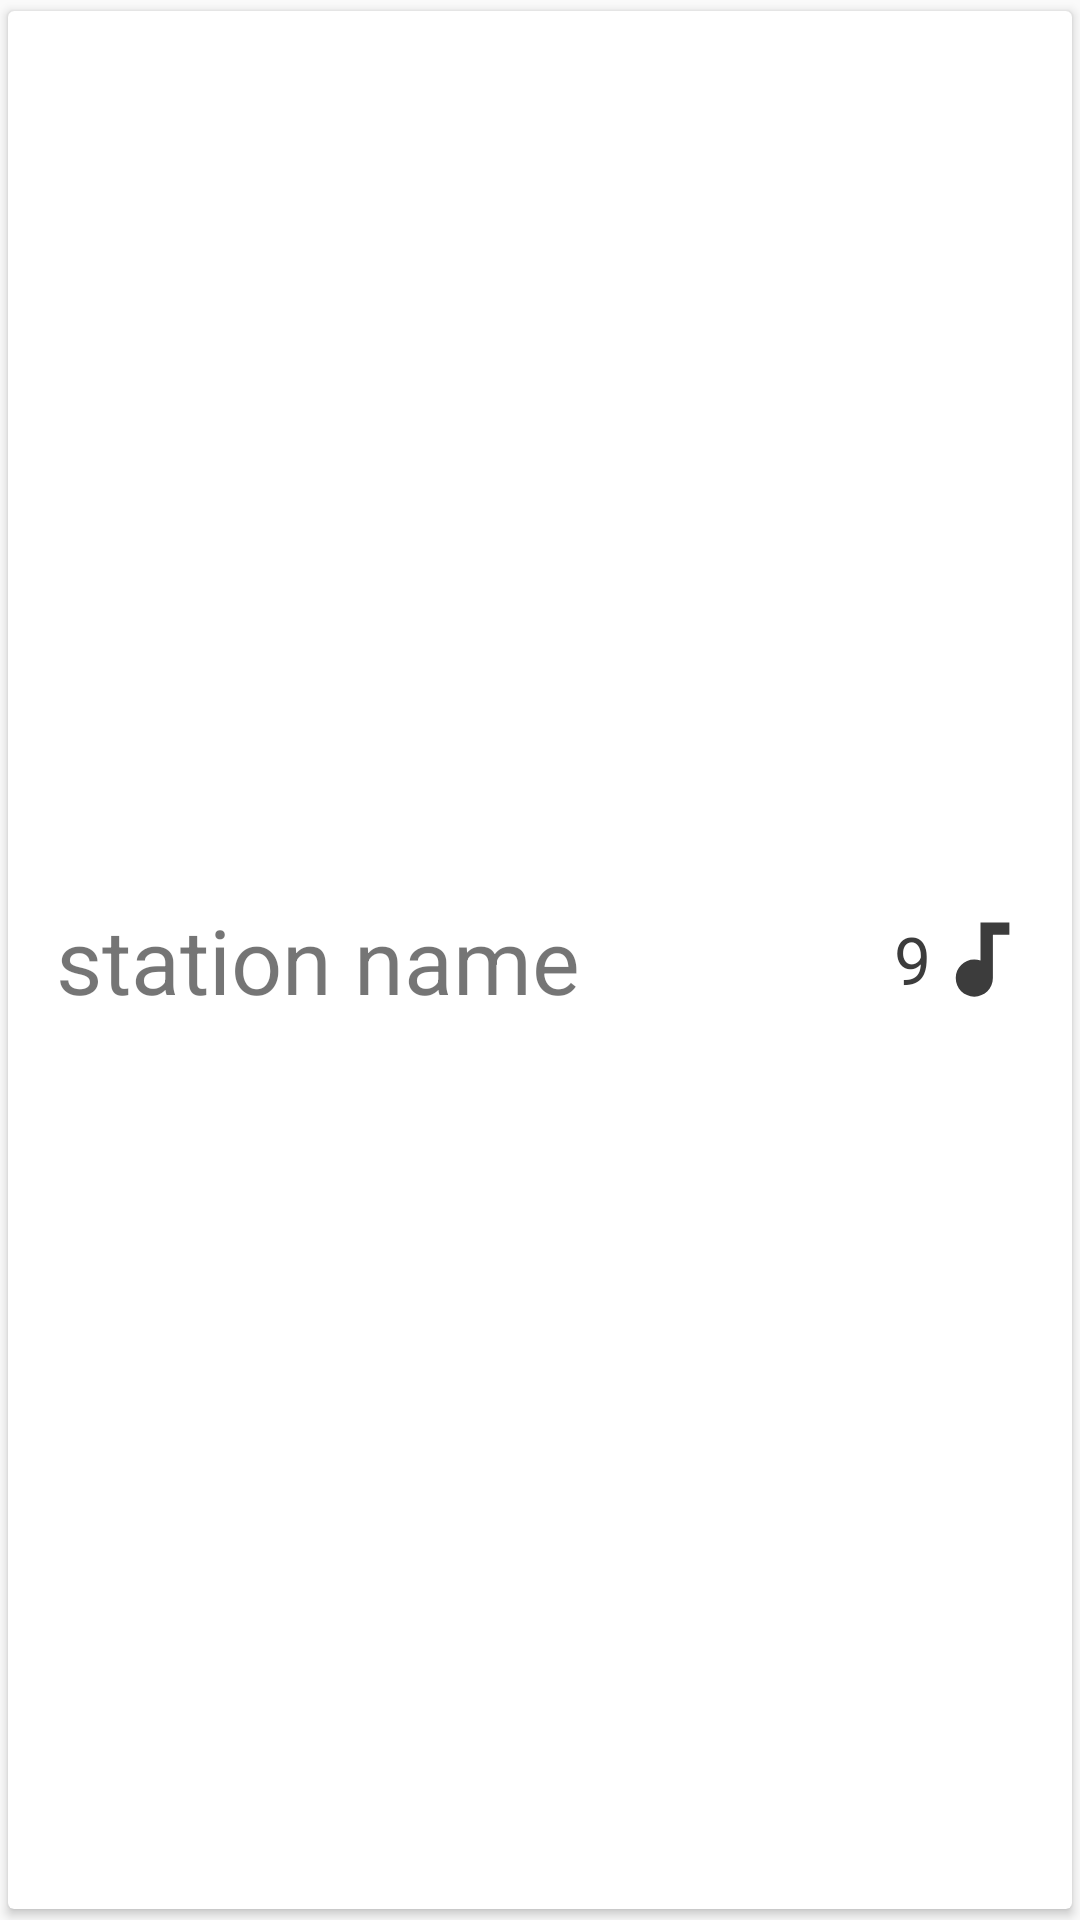

Icons on this 1080*1920 Android screen, each with the point to tap as point (x, y):
music note: point (982, 959)
